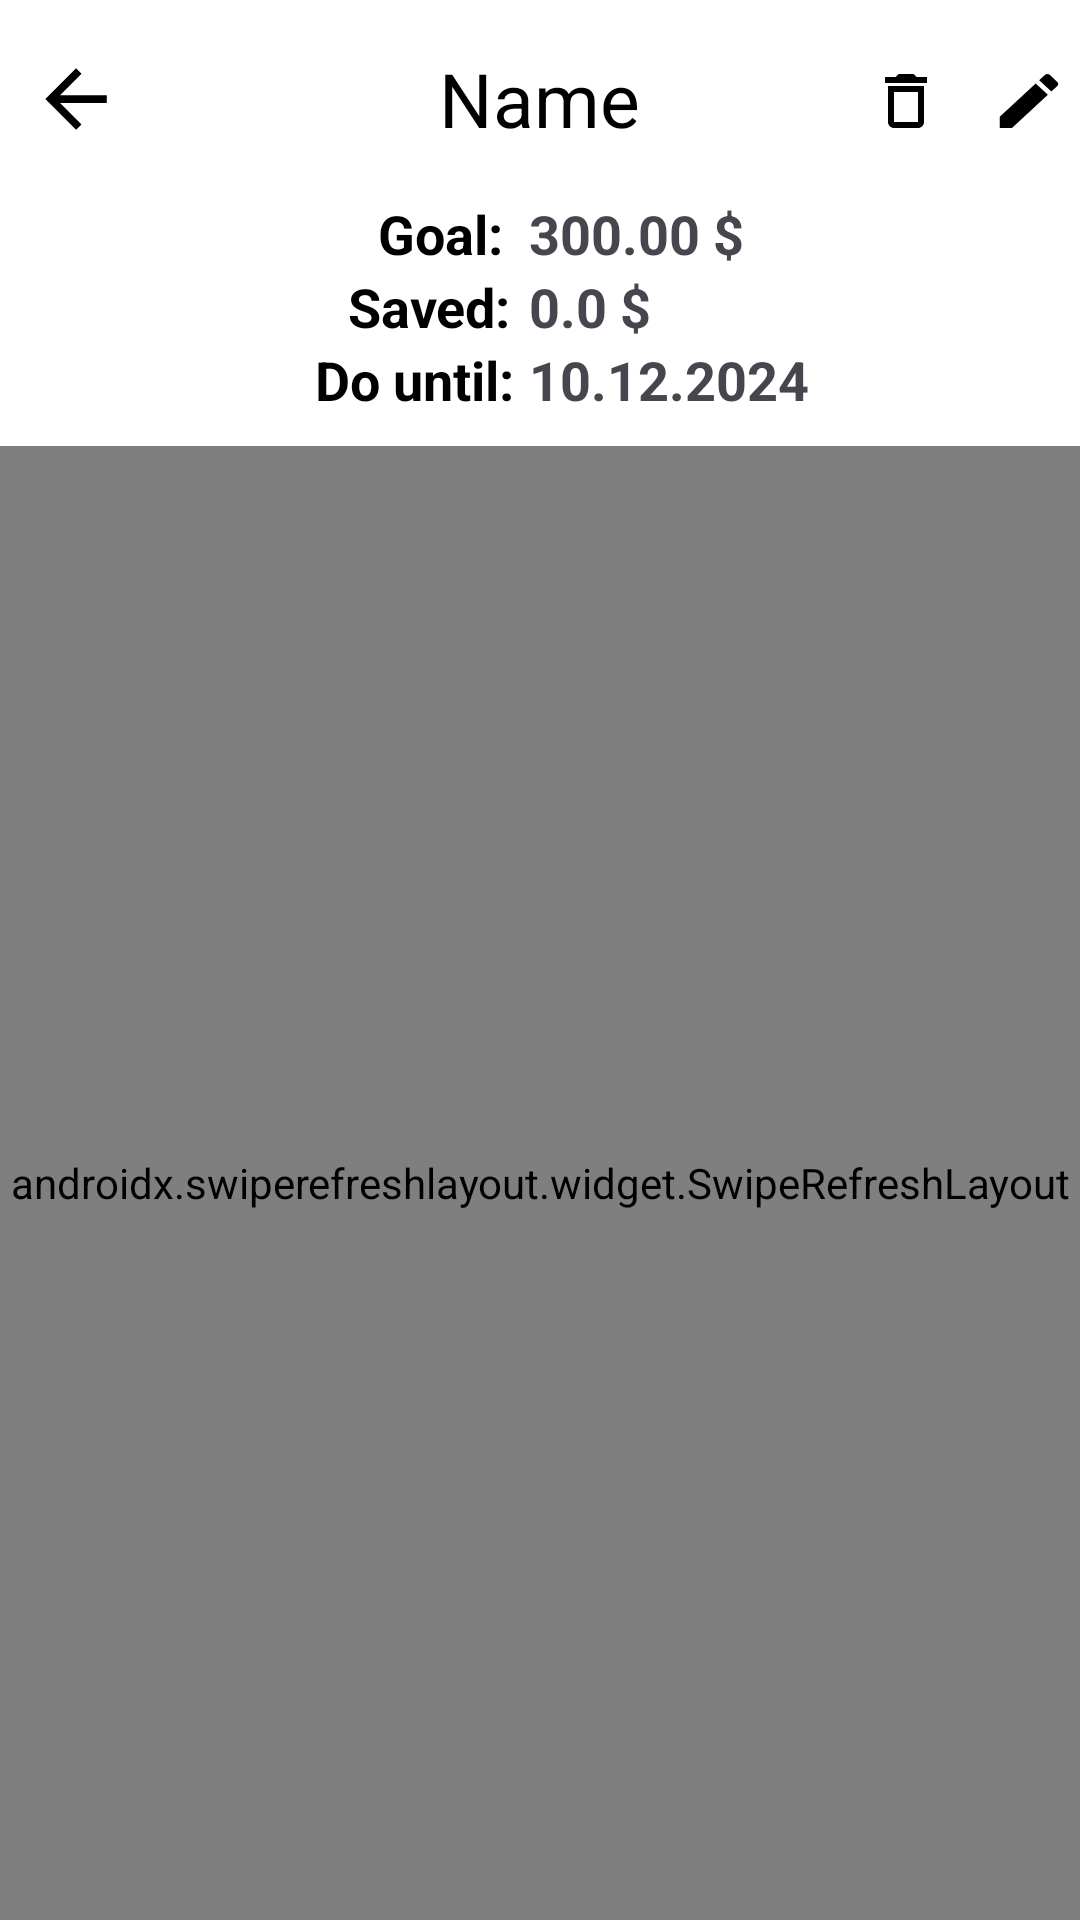

Named icons in this screenshot (1080×1920) and their centers, [x,y]:
arrow back: [76,99]
delete: [906,101]
edit: [1029,101]
